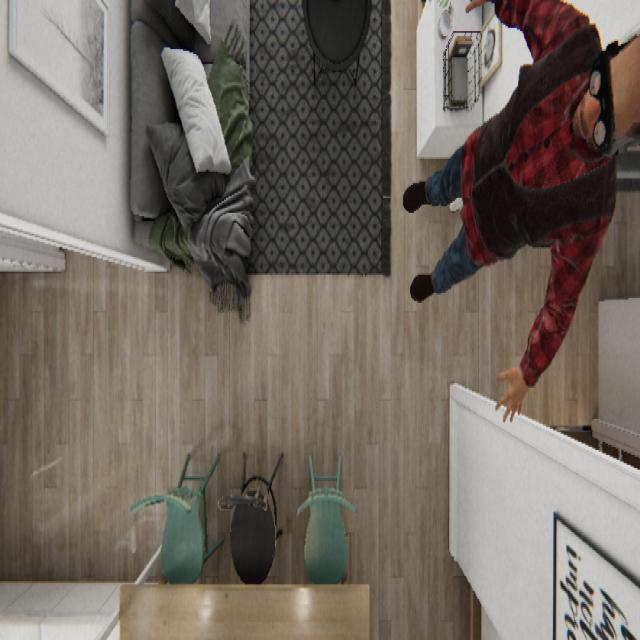Human: (401, 0, 638, 422)
